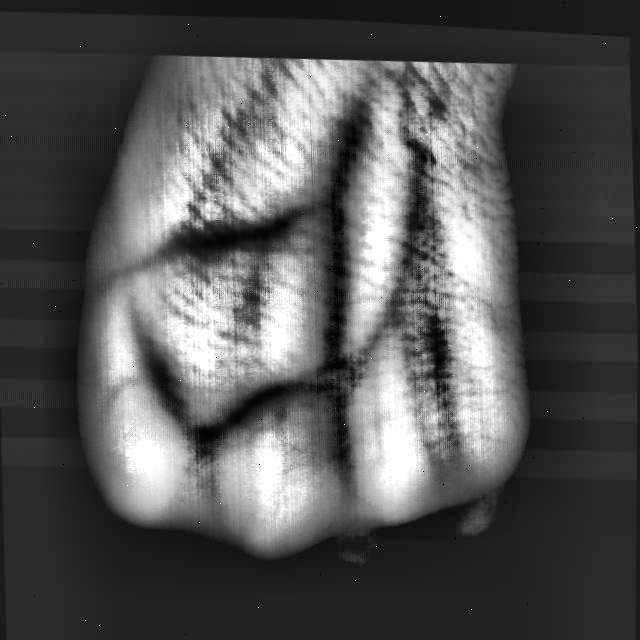Vein: (315, 83, 395, 352)
